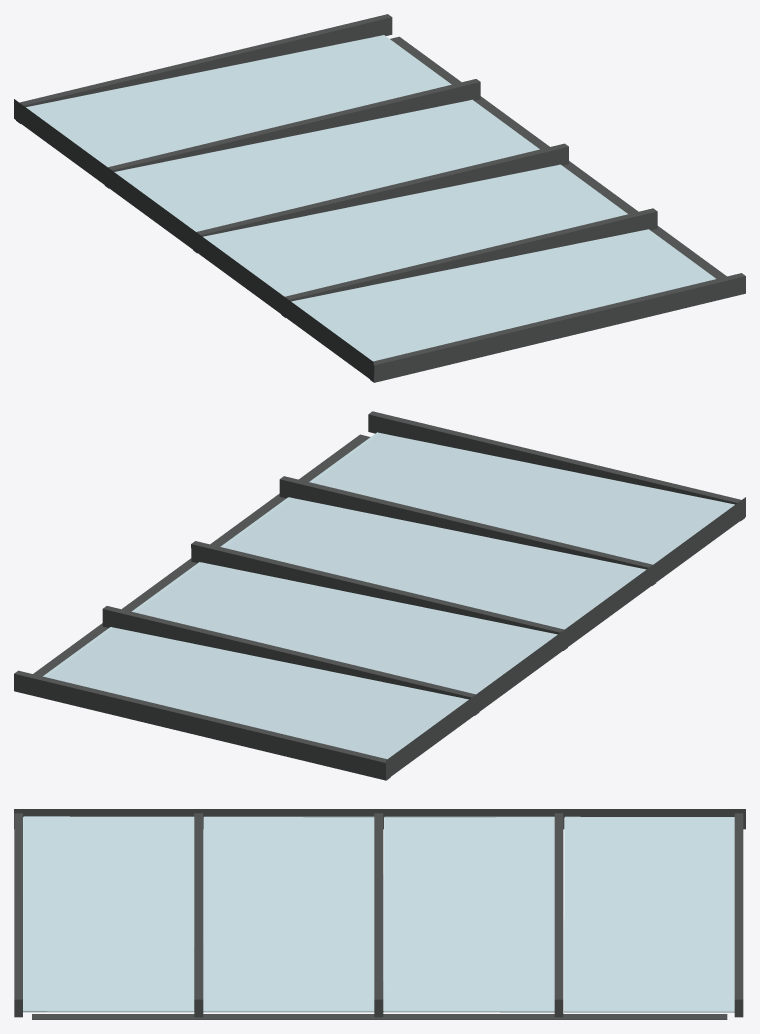
File: FlatglassGREY.glb
3 renders of one model, top to bottom at view 1: azimuth 30°, elevation 25°; view 2: azimuth 150°, elevation 25°; view 3: azimuth 270°, elevation 25°, orthographic.
Parts seen in each view (by area): view 1: roof, Rafter, Plane.001, toprail; view 2: roof, Rafter, Plane.001, toprail; view 3: roof, Rafter, Plane.001, toprail.
Boxes of the visible parts, x1,y1,x2,y2 form: roof: (26, 35, 715, 361); Rafter: (16, 14, 745, 382); Plane.001: (14, 99, 373, 381); toprail: (390, 36, 726, 278); roof: (43, 432, 734, 759); Rafter: (14, 411, 744, 780); Plane.001: (386, 497, 745, 779); toprail: (33, 434, 370, 676); roof: (23, 816, 734, 1012); Rafter: (14, 813, 743, 1017); Plane.001: (14, 809, 745, 829); toprail: (32, 1014, 727, 1019).
Size of the model in its own units: 3.02 by 0.1792 by 5.
